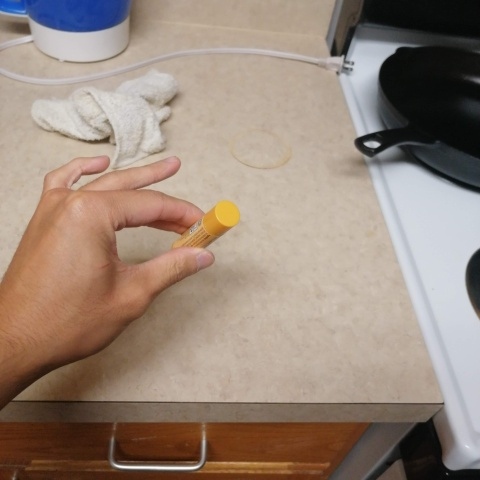chapstick: (171, 201, 241, 252)
